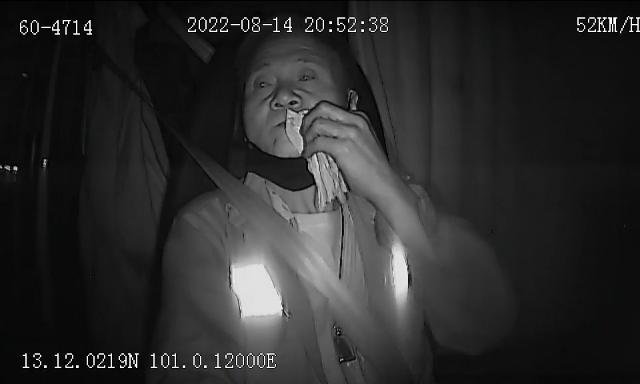SafeDriving: (249, 72, 280, 94)
Seatbelt: (205, 164, 372, 384)
